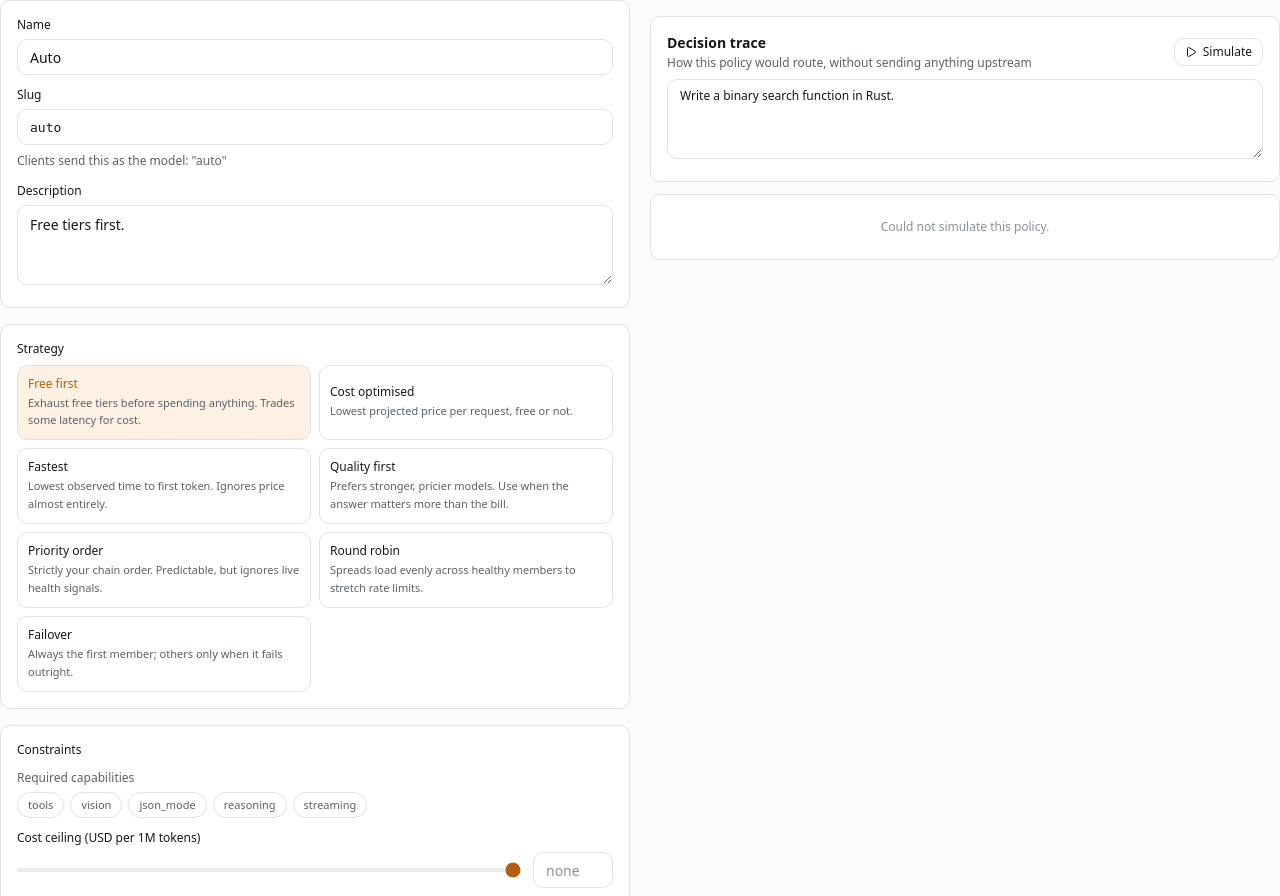
PolicyEditor › failure handling › reverts the control when the save is rejected
Step 1. Click the text "Fastest" → (48, 467), box top-left (28, 458), bottom-right (68, 475)
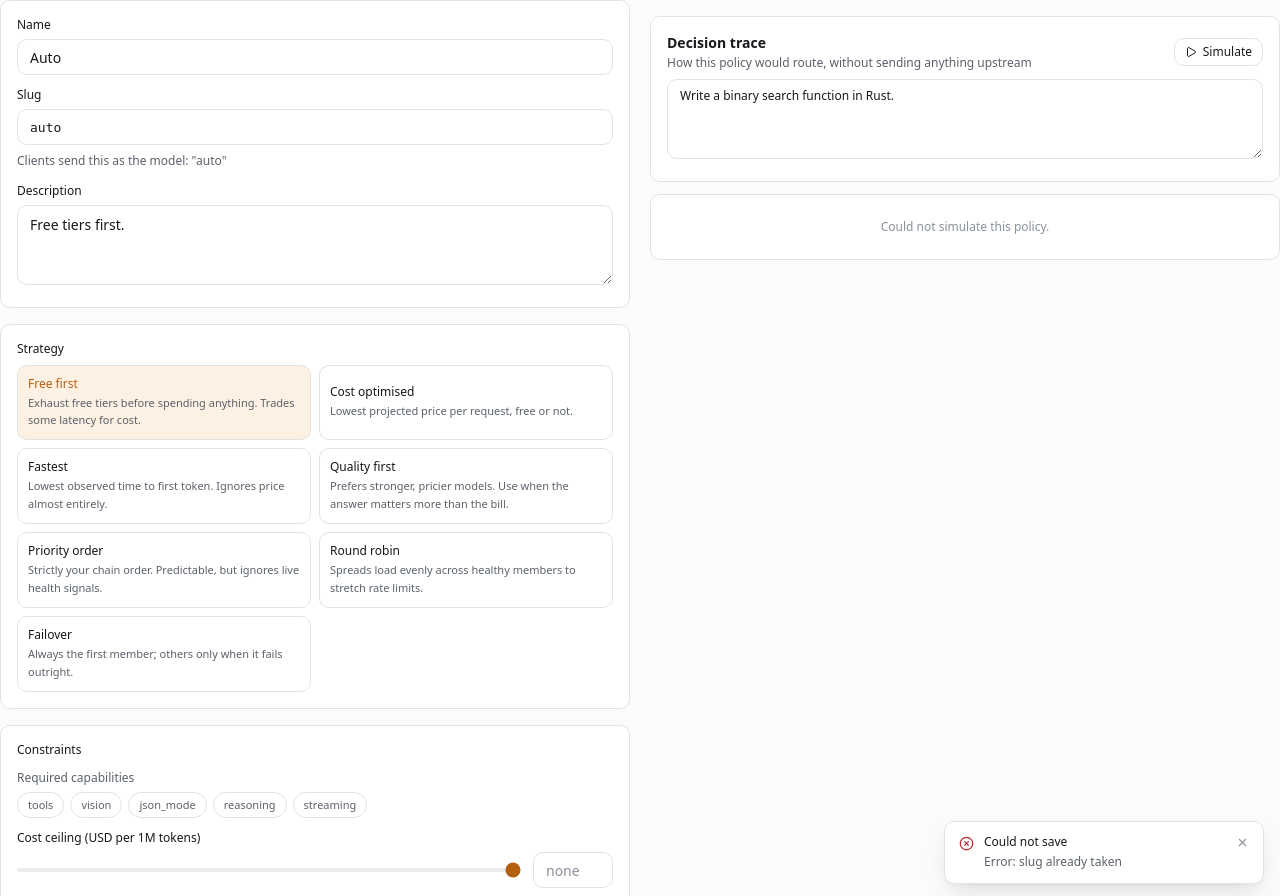
Check: the text "Could not save" is shown, box top-left (984, 832), bottom-right (1067, 850)
